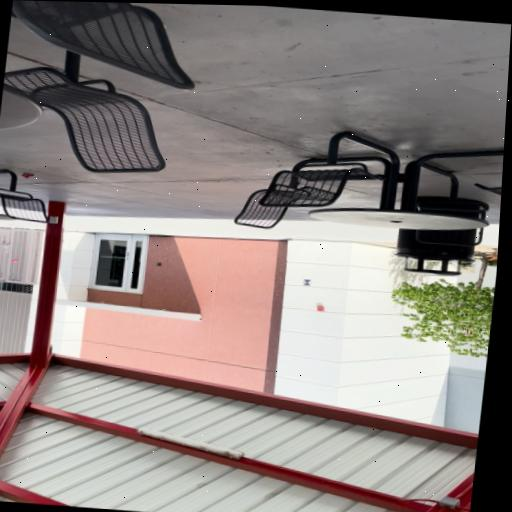target2: (302, 280, 311, 285)
